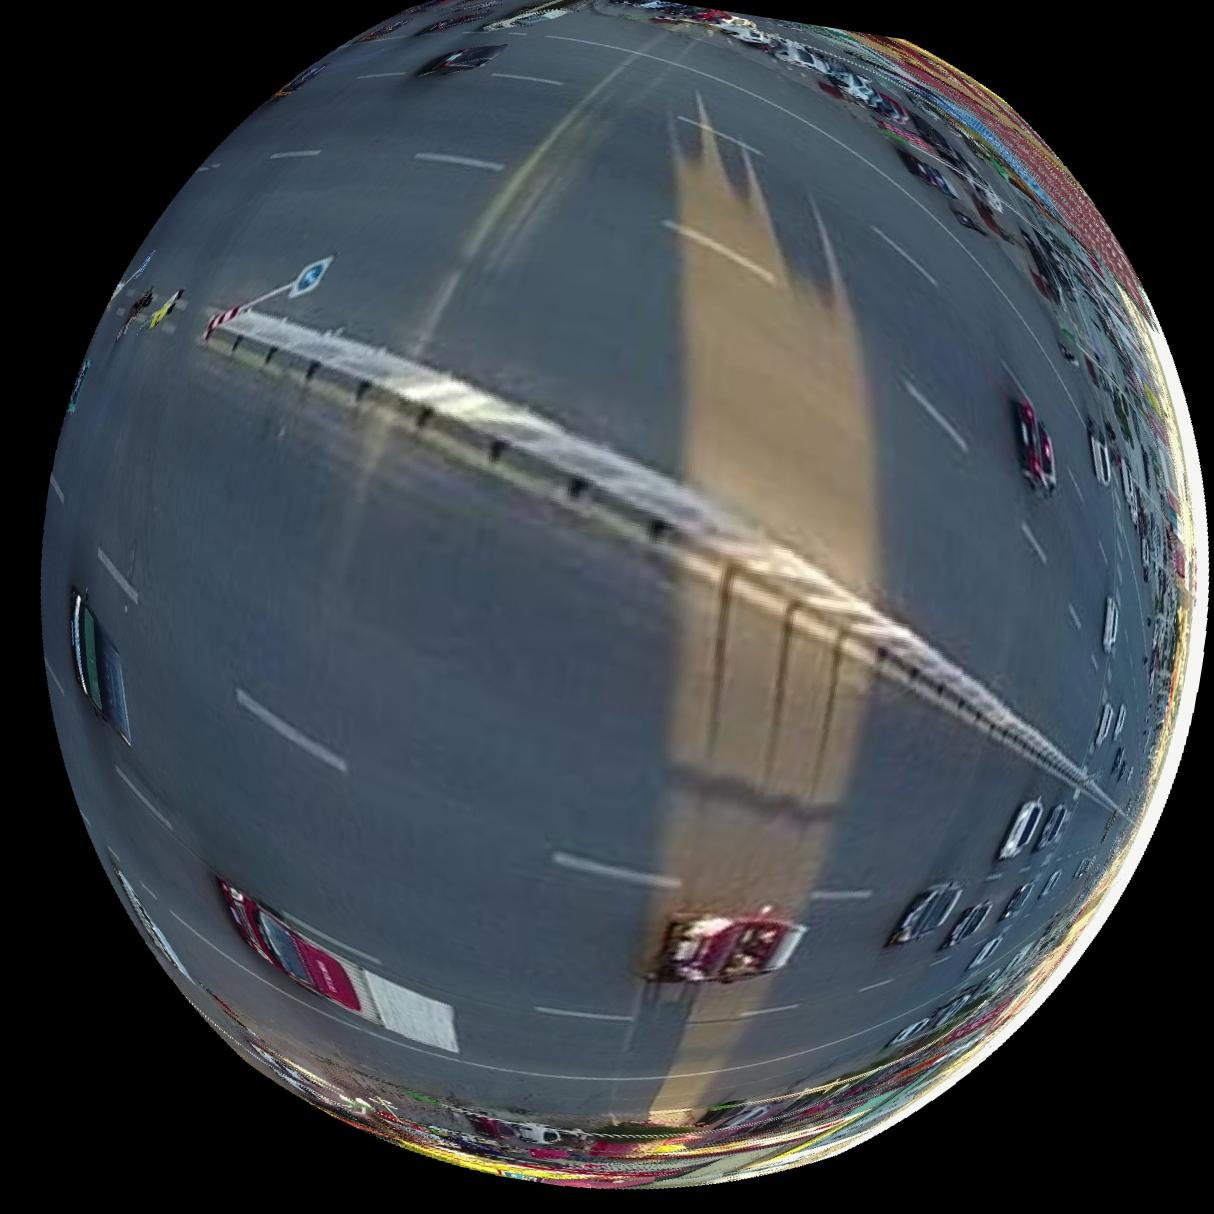cars: (216, 879, 457, 1054), (651, 906, 805, 985), (67, 589, 127, 747), (887, 882, 962, 947), (1014, 396, 1057, 498), (997, 797, 1043, 862), (481, 0, 581, 29), (416, 42, 504, 74), (943, 902, 992, 951), (887, 1019, 929, 1047), (1102, 595, 1121, 654)
